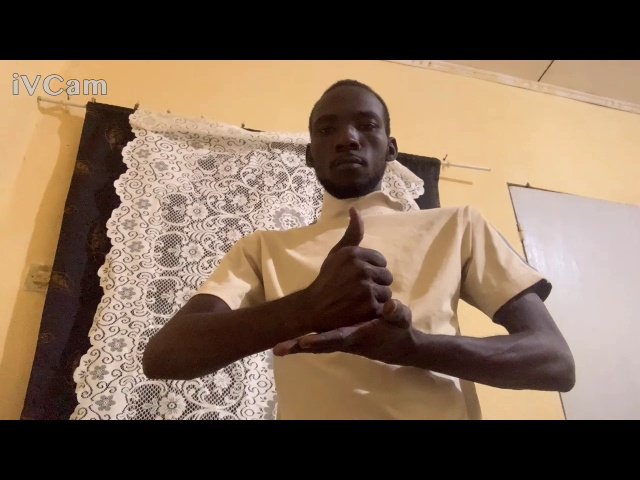aide: (263, 204, 447, 376)
